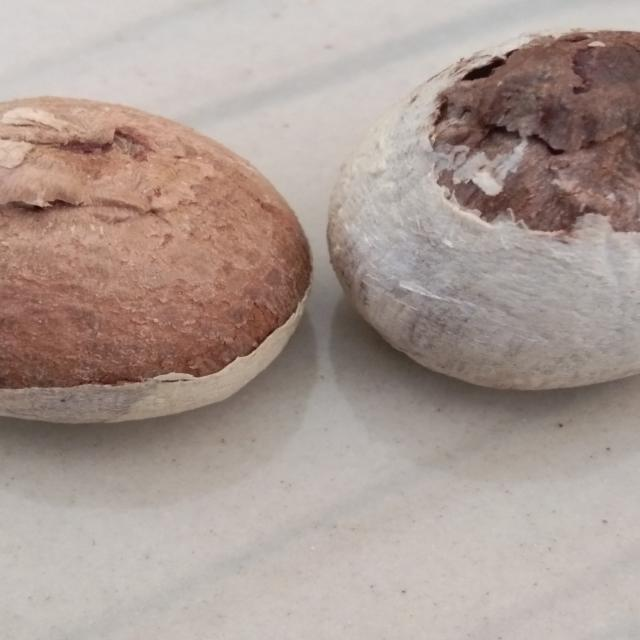karigot: (337, 13, 640, 406)
phatora: (0, 102, 318, 446)
